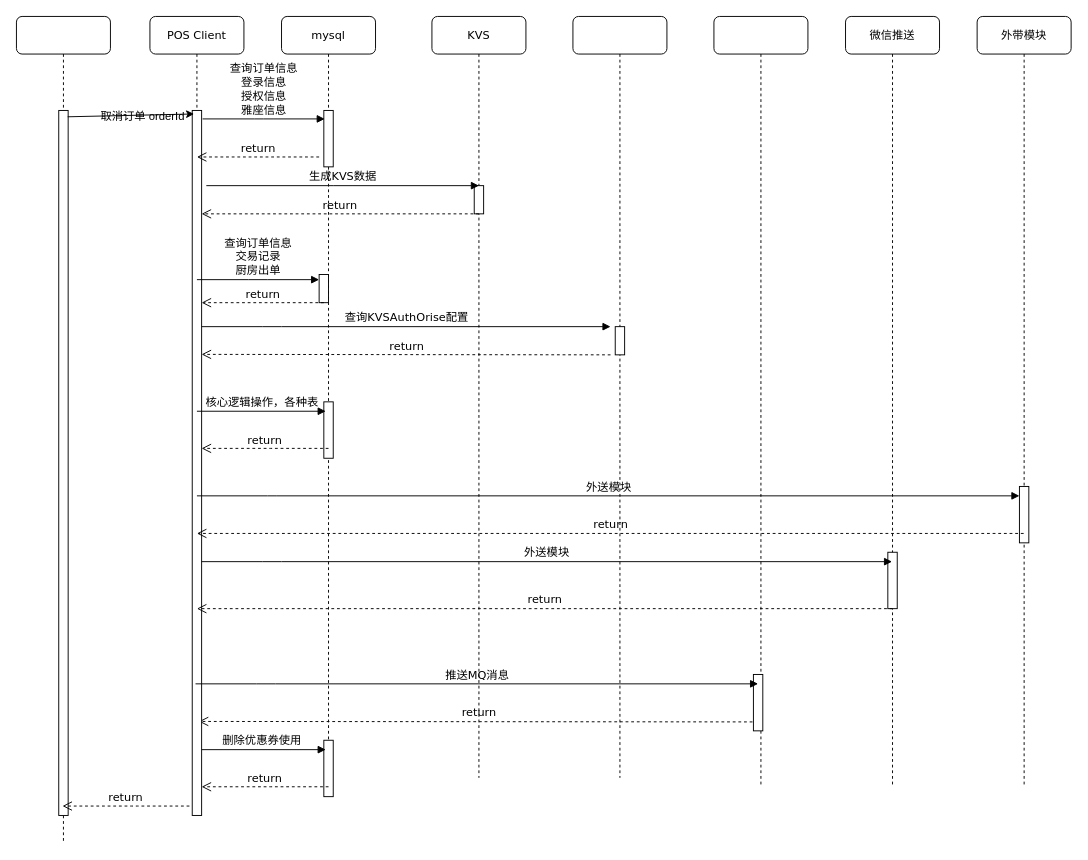
The diagram is 1088 pixels wide and 860 high, and some of its shapes have lost their labels. Each missing label, with the box of its shape:
MQ: (713, 16, 808, 787)
点餐员: (16, 16, 110, 844)
配置文档: (572, 16, 667, 778)
